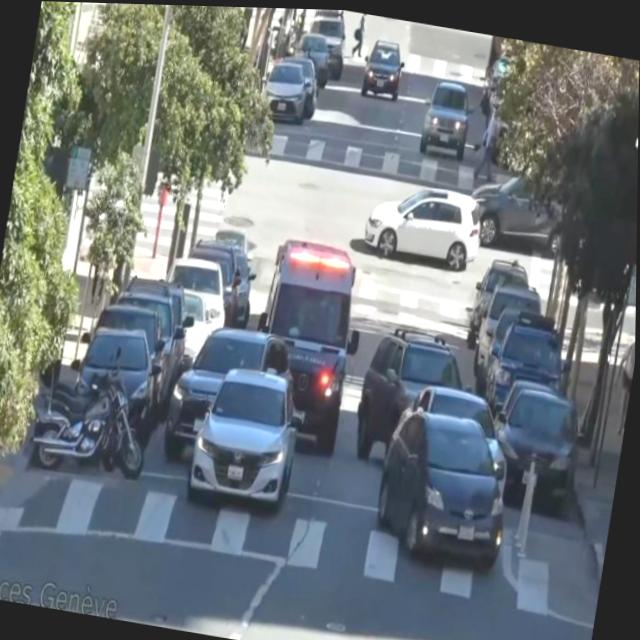emergency: (238, 234, 375, 458)
